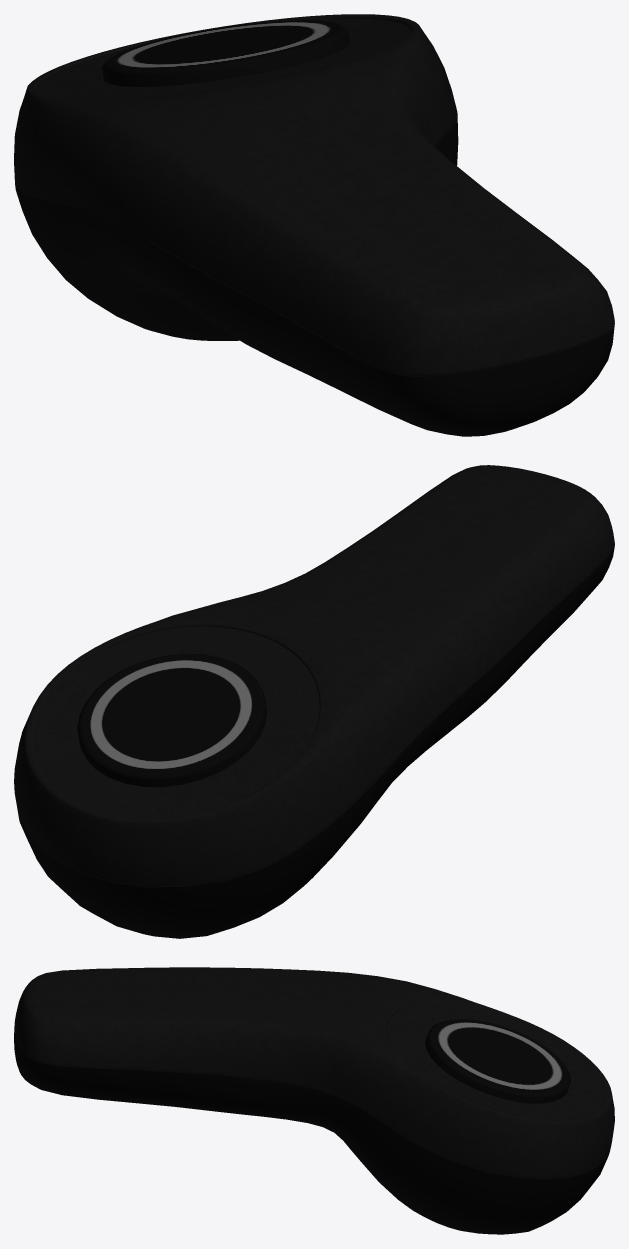
File: left.glb
3 renders of one model, top to bottom at view 1: azimuth 30°, elevation 25°; view 2: azimuth 150°, elevation 25°; view 3: azimuth 270°, elevation 25°, orthographic. The views are drawn at different scales.
Visible parts, largest first — view 1: Body, Button, Plate; view 2: Body, Plate, Button; view 3: Body, Button, Plate.
Boxes of the visible parts, bbox=[...] form: Body: bbox=[14, 14, 614, 436]; Button: bbox=[102, 20, 349, 86]; Plate: bbox=[37, 18, 410, 99]; Body: bbox=[14, 465, 614, 938]; Plate: bbox=[33, 626, 319, 817]; Button: bbox=[77, 653, 267, 786]; Body: bbox=[14, 967, 614, 1234]; Button: bbox=[425, 1019, 570, 1103]; Plate: bbox=[387, 1004, 604, 1119].
Bounding box in the file's own units: 0.065 × 0.0484 × 0.1319.
Materials: 1 (1 with a texture image).
